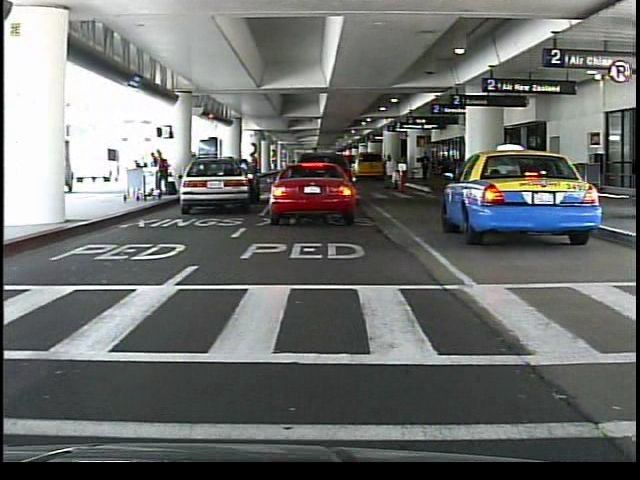person: (244, 151, 262, 201), (287, 159, 304, 205), (307, 152, 322, 202), (156, 147, 171, 196), (386, 150, 401, 188), (417, 149, 432, 184)
